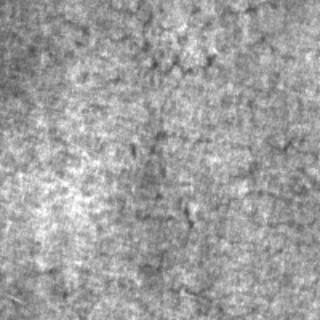crazing: (125, 130, 317, 276), (38, 0, 294, 78)
